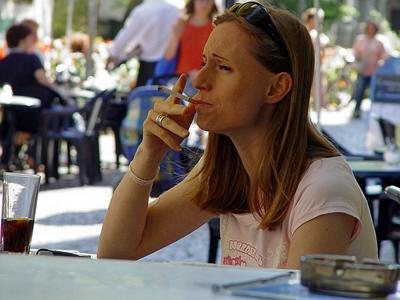person: (94, 1, 381, 270)
